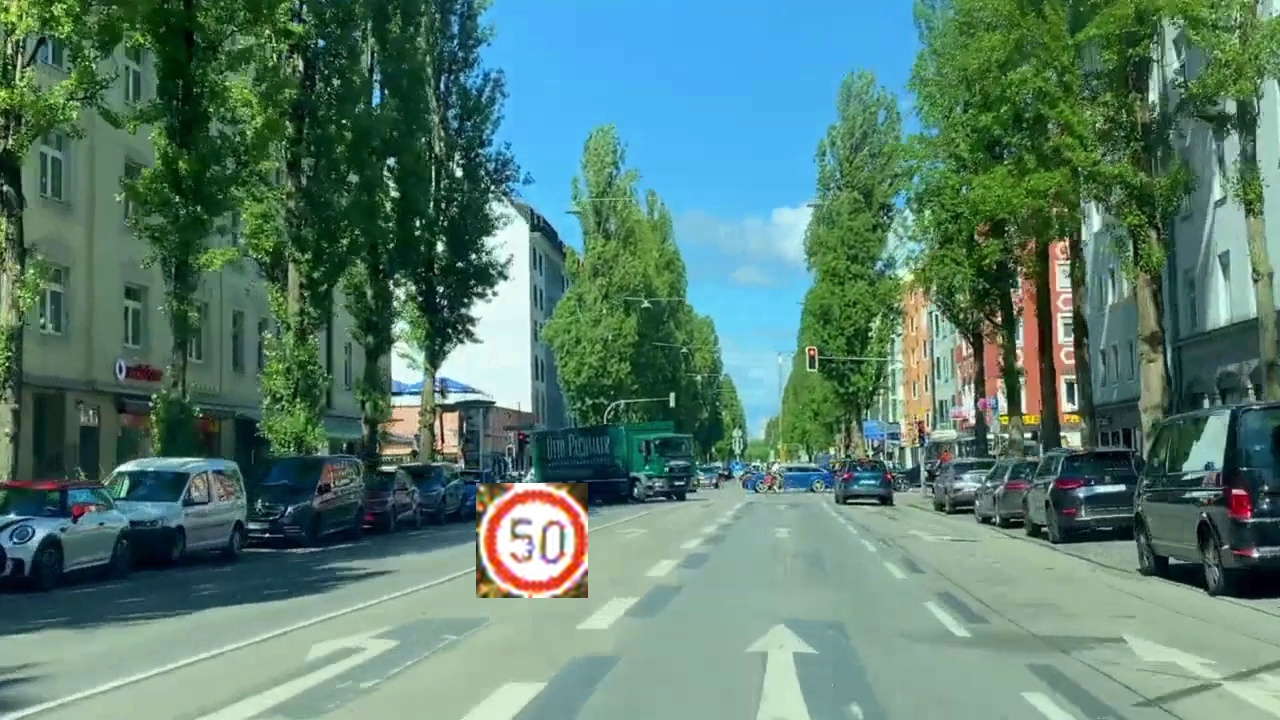Speed 50: (476, 483, 588, 598)
